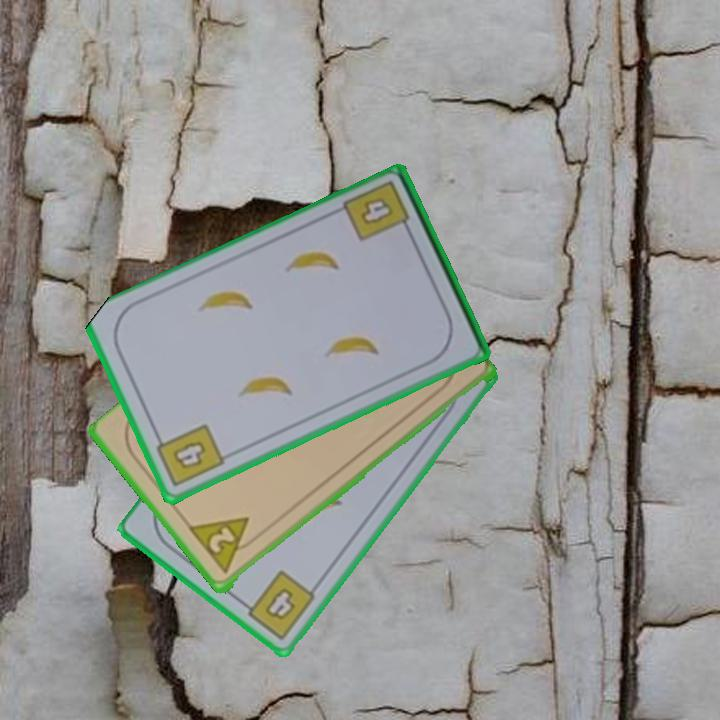2p: (186, 513, 263, 579)
4b: (237, 567, 319, 643), (151, 420, 228, 490), (340, 177, 415, 245)
